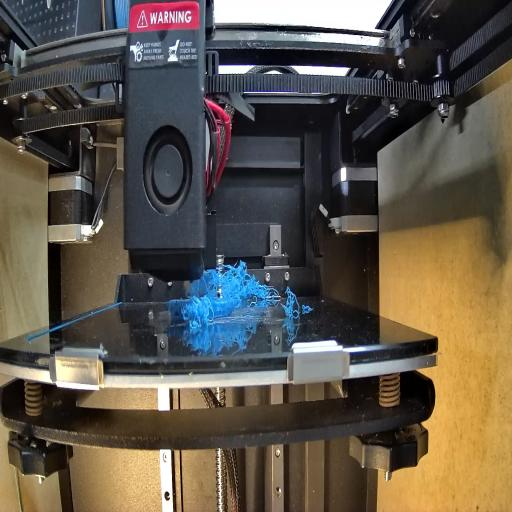spaghetti: (192, 270, 280, 304), (176, 292, 214, 332), (280, 288, 302, 322)
